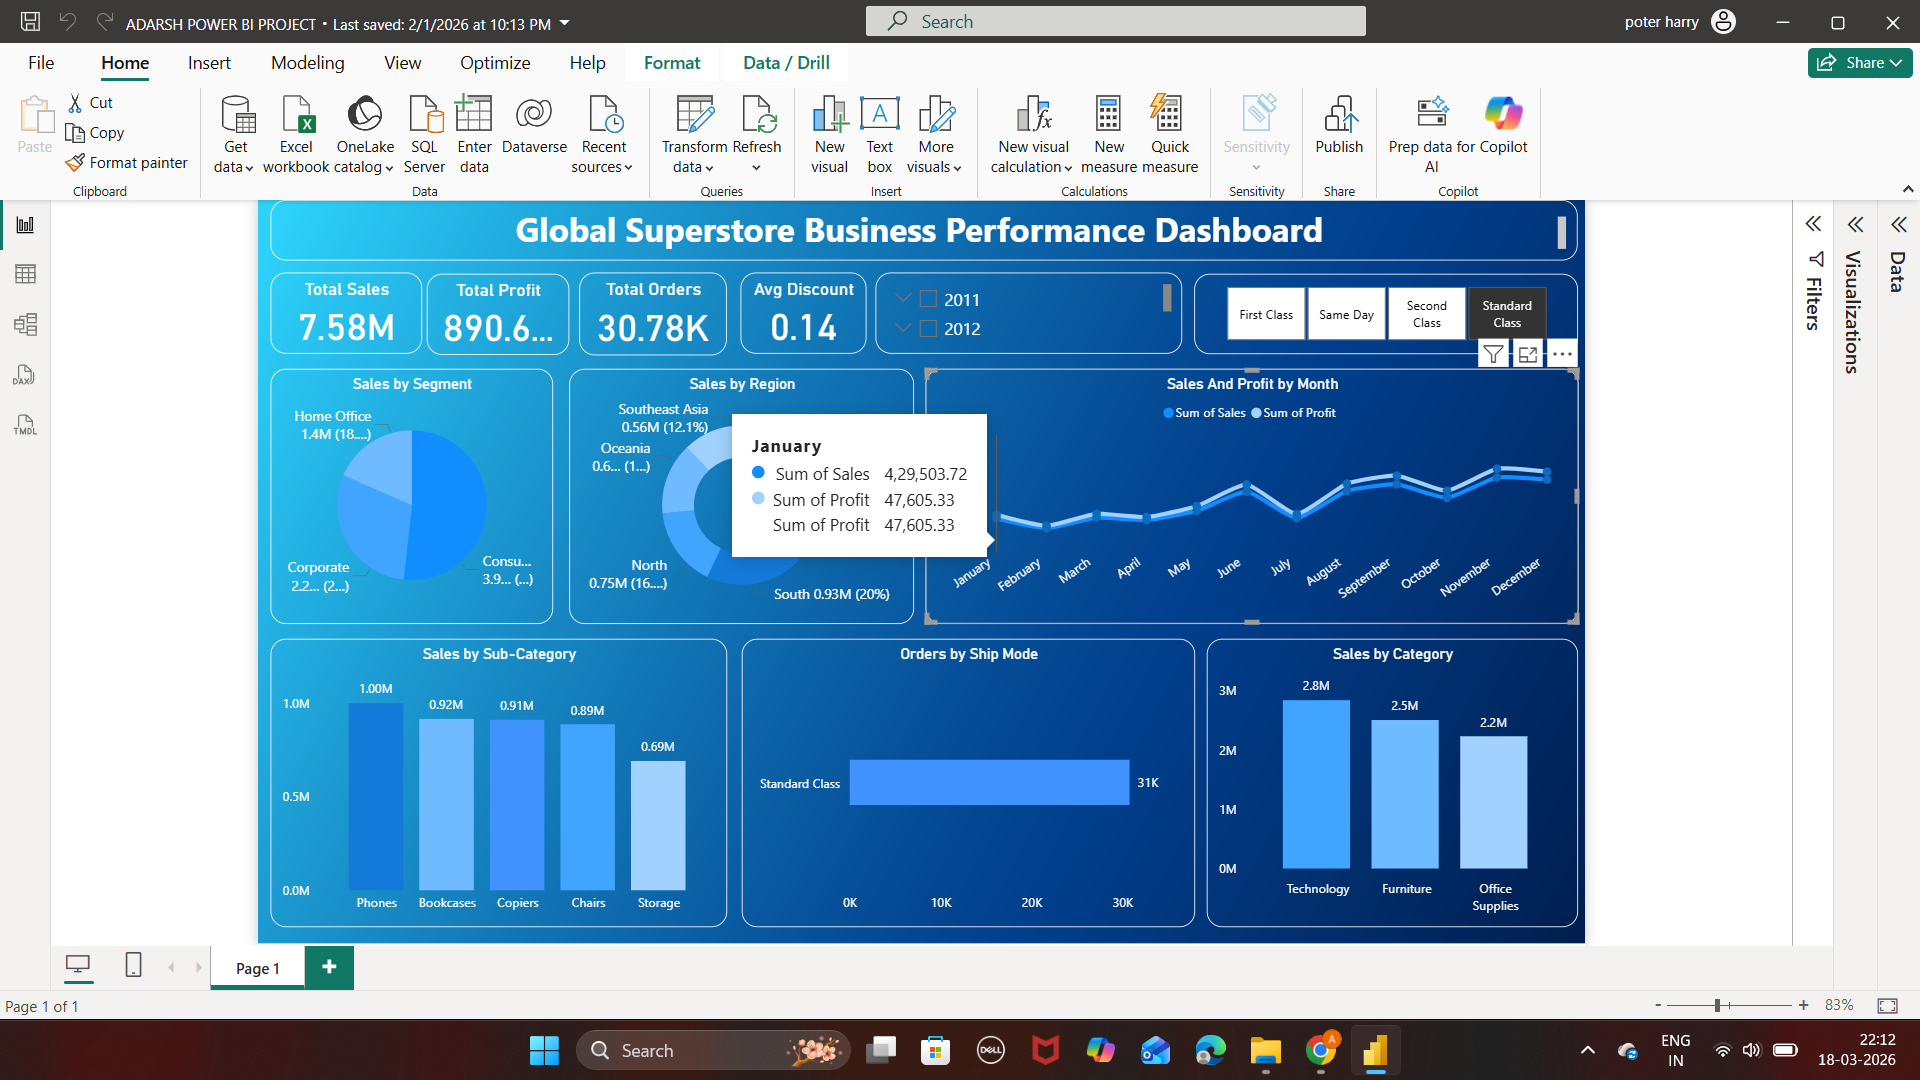

Layout of this report page (visuals, bound fields, positions):
{"tool":"powerbi","page":{"name":"Page 1","canvas":[1280,720],"ordinal":0},"visuals":[{"type":"card","title":"Total Sales","fields":{"Values":["Sum(Sheet1.Sales)"]},"box":[12.5,70,146.2,78.8],"z":0},{"type":"card","title":"Total Profit","fields":{"Values":["Sum(Sheet1.Profit)"]},"box":[162.5,71.2,137.5,78.8],"z":1000},{"type":"columnChart","title":" Sales by Category","fields":{"Category":["Sheet1.Category"],"Y":["Sum(Sheet1.Sales)"]},"box":[915.3,424,358.1,278.6],"z":2000},{"type":"columnChart","title":"Sales by Sub-Category","fields":{"Y":["Sum(Sheet1.Sales)"],"Category":["Sheet1.Sub-Category"]},"box":[12.3,424,440.5,278.6],"z":3000},{"type":"stackedAreaChart","title":"Sales And Profit by Month","fields":{"Category":["Sheet1.Order Date.Variation.Date Hierarchy.Month"],"Y":["Sum(Sheet1.Sales)","Sum(Sheet1.Profit)"]},"box":[643.8,162.5,630,246.2],"z":4000},{"type":"donutChart","title":"Sales by Region","fields":{"Category":["Sheet1.Region"],"Y":["Sum(Sheet1.Sales)"]},"box":[300,162.5,332.5,246.2],"z":5000},{"type":"barChart","title":"Orders by Ship Mode","fields":{"Y":["CountNonNull(Sheet1.Order ID)"],"Category":["Sheet1.Ship Mode"]},"box":[466.6,424,437.7,278.6],"z":6000},{"type":"pieChart","title":"Sales by Segment","fields":{"Category":["Sheet1.Segment"],"Y":["Sum(Sheet1.Sales)"]},"box":[12.5,162.5,272.5,246.2],"z":8000},{"type":"textbox","box":[12.5,0,1261.2,58.8],"z":9000},{"type":"card","title":"Total Orders","fields":{"Values":["CountNonNull(Sheet1.Row ID)"]},"box":[310,70,142.5,80],"z":10000},{"type":"card","title":"Avg Discount","fields":{"Values":["Sheet1.avg discount"]},"box":[466.2,70,121.2,78.8],"z":11000},{"type":"slicer","fields":{"Values":["Sheet1.Ship Mode"]},"box":[903.8,71.2,370,77.5],"z":12000},{"type":"slicer","fields":{"Values":["Sheet1.Order Date.Variation.Date Hierarchy.Year","Sheet1.Order Date.Variation.Date Hierarchy.Quarter","Sheet1.Order Date.Variation.Date Hierarchy.Month","Sheet1.Order Date.Variation.Date Hierarchy.Day"]},"box":[595.5,70,296.4,78.2],"z":13001}]}

Visuals, with their boxes on the page's 1280x720 design canvas (x1, y1, x2, y2). These are canvas units, not pixel positions in the 1920x1080 screenshot, which may show the page scaled, cropped or inside an application window:
"Total Sales" card: rect(12, 70, 159, 149)
"Total Profit" card: rect(162, 71, 300, 150)
" Sales by Category" columnChart: rect(915, 424, 1273, 703)
"Sales by Sub-Category" columnChart: rect(12, 424, 453, 703)
"Sales And Profit by Month" stackedAreaChart: rect(644, 162, 1274, 409)
"Sales by Region" donutChart: rect(300, 162, 632, 409)
"Orders by Ship Mode" barChart: rect(467, 424, 904, 703)
"Sales by Segment" pieChart: rect(12, 162, 285, 409)
textbox: rect(12, 0, 1274, 59)
"Total Orders" card: rect(310, 70, 452, 150)
"Avg Discount" card: rect(466, 70, 587, 149)
slicer - Sheet1.Ship Mode: rect(904, 71, 1274, 149)
slicer - Sheet1.Order Date.Variation.Date Hierarchy.Year x Sheet1.Order Date.Variation.Date Hierarchy.Quarter: rect(596, 70, 892, 148)
